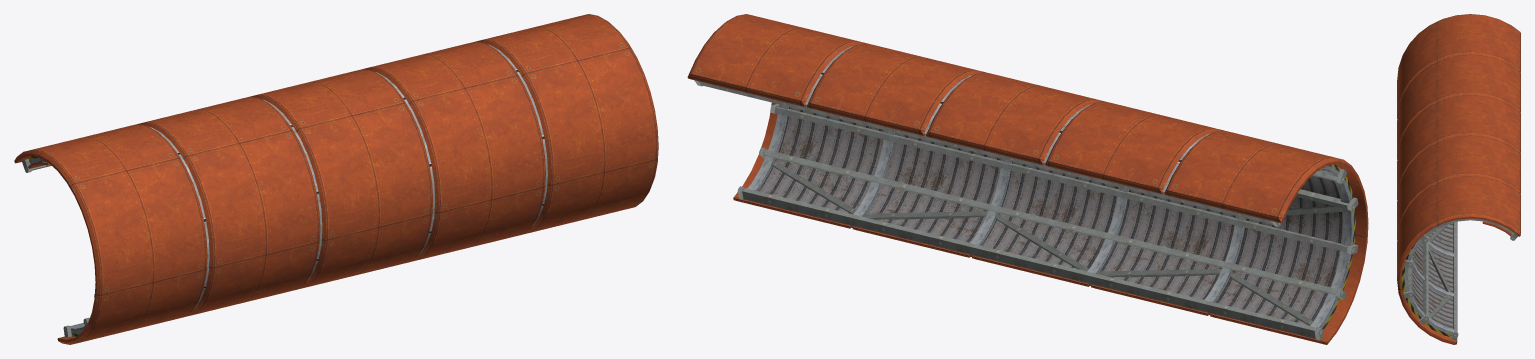
Rendered from Ob_FloatingWall2_RC.fbx.
3 renders of one model, left to right at view 1: azimuth 30°, elevation 25°; view 2: azimuth 150°, elevation 25°; view 3: azimuth 270°, elevation 25°, orthographic. The views are drawn at different scales.
Parts seen in each view (by area): view 1: Ob_FloatingWall2_RC; view 2: Ob_FloatingWall2_RC; view 3: Ob_FloatingWall2_RC.
Boxes of the visible parts, left/top/right/bottom form: Ob_FloatingWall2_RC: left=14, top=14, right=658, bottom=344; Ob_FloatingWall2_RC: left=687, top=14, right=1368, bottom=344; Ob_FloatingWall2_RC: left=1397, top=14, right=1520, bottom=344.
Bounding box in the file's own units: 8120 × 2465 × 2107.
